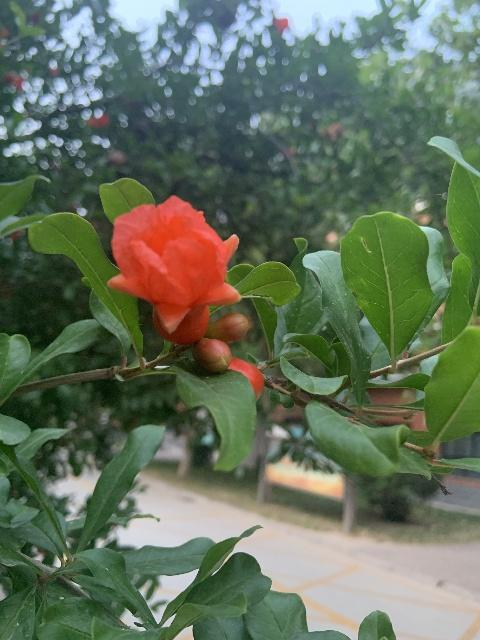bud: (228, 357, 264, 398), (209, 312, 252, 343), (192, 338, 230, 372)
flower: (107, 194, 242, 345)
